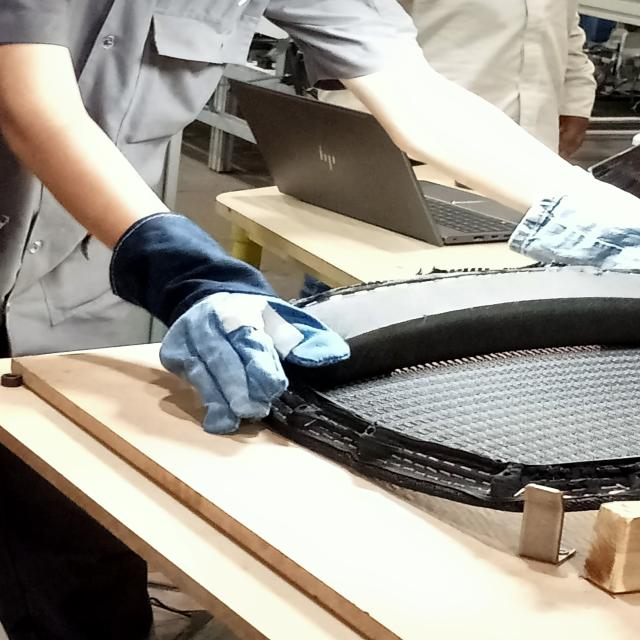Gloves-Detection: (107, 218, 340, 423)
